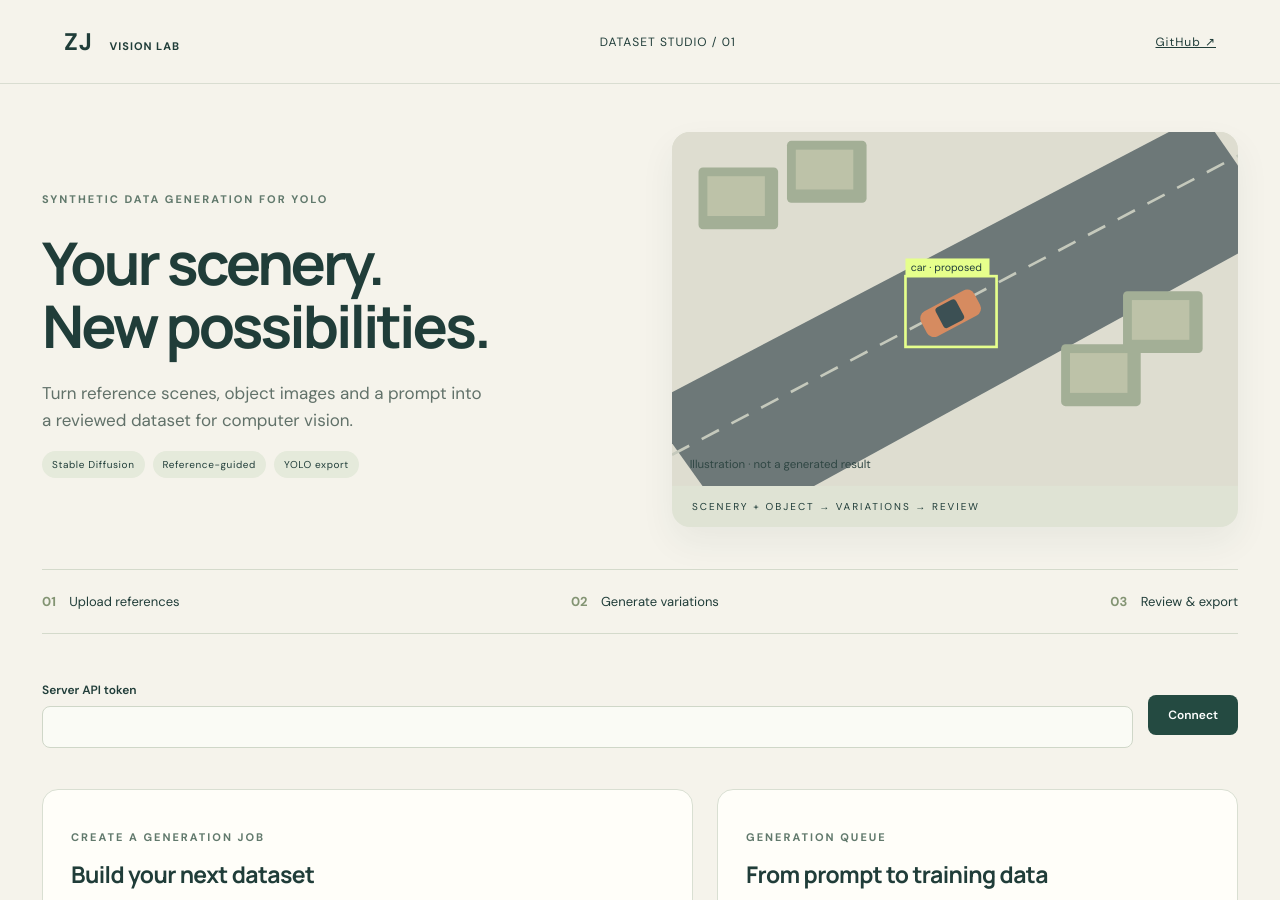
it: authentication errors are visible
The width and height of the screenshot is (1280, 900).
In the password field labelled "Server API token": (588, 727) 42,706 -> 1133,748, type "bad"
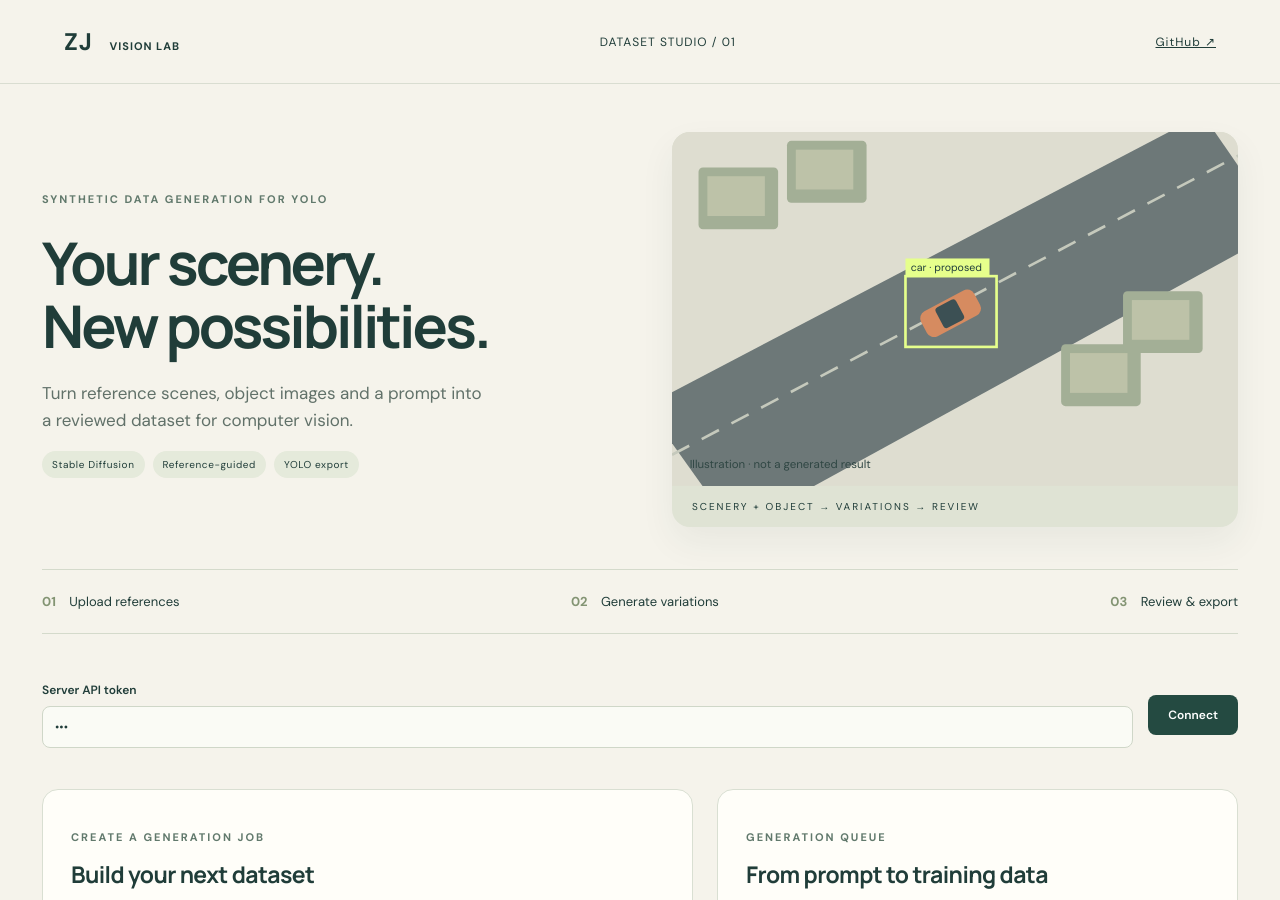
Click the button "Connect": (1193, 715) 1148,695 -> 1238,735
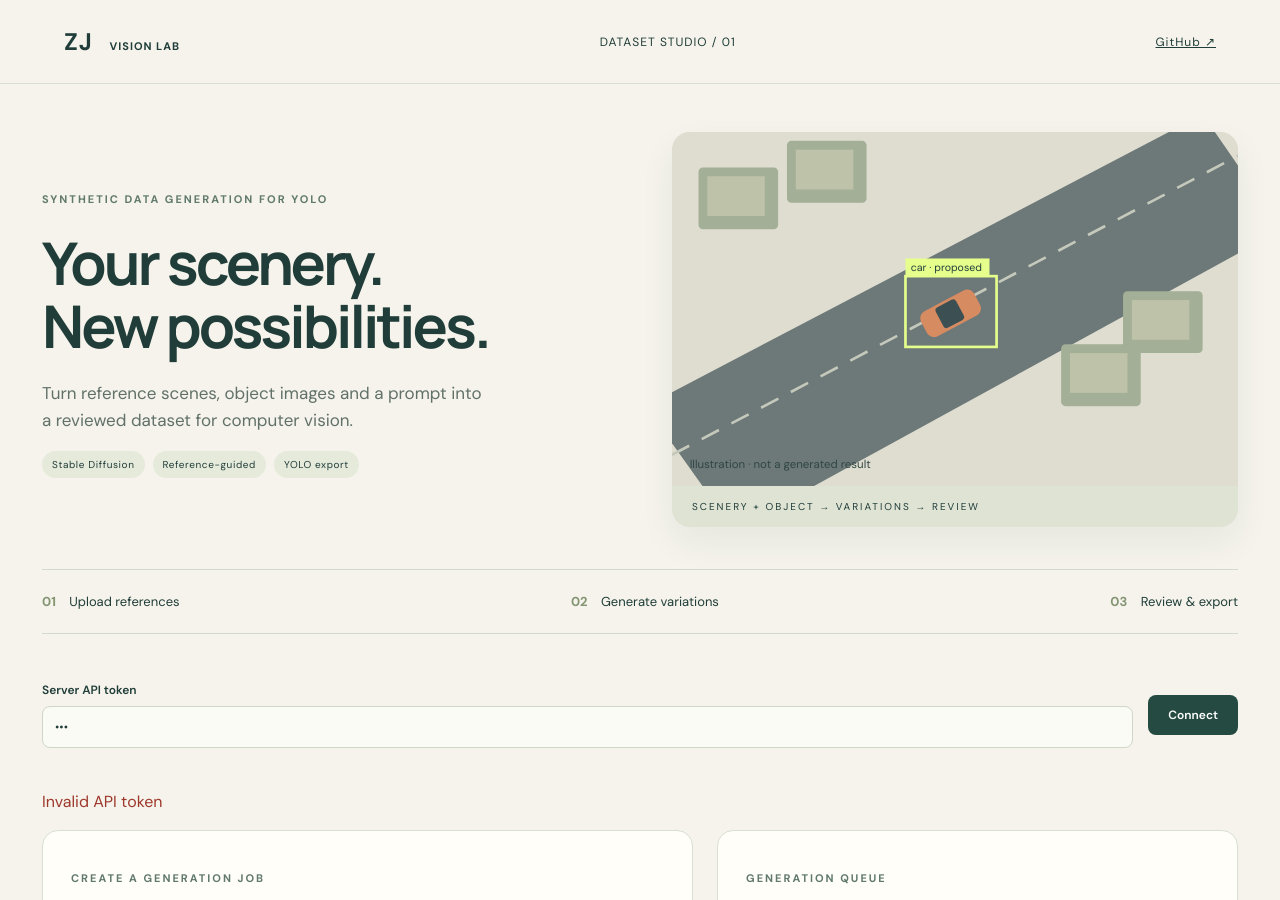
Check: the message "Invalid API token" is shown, box 42,791 -> 162,812
